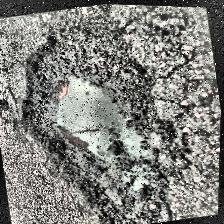pothole: (12, 38, 174, 220)
